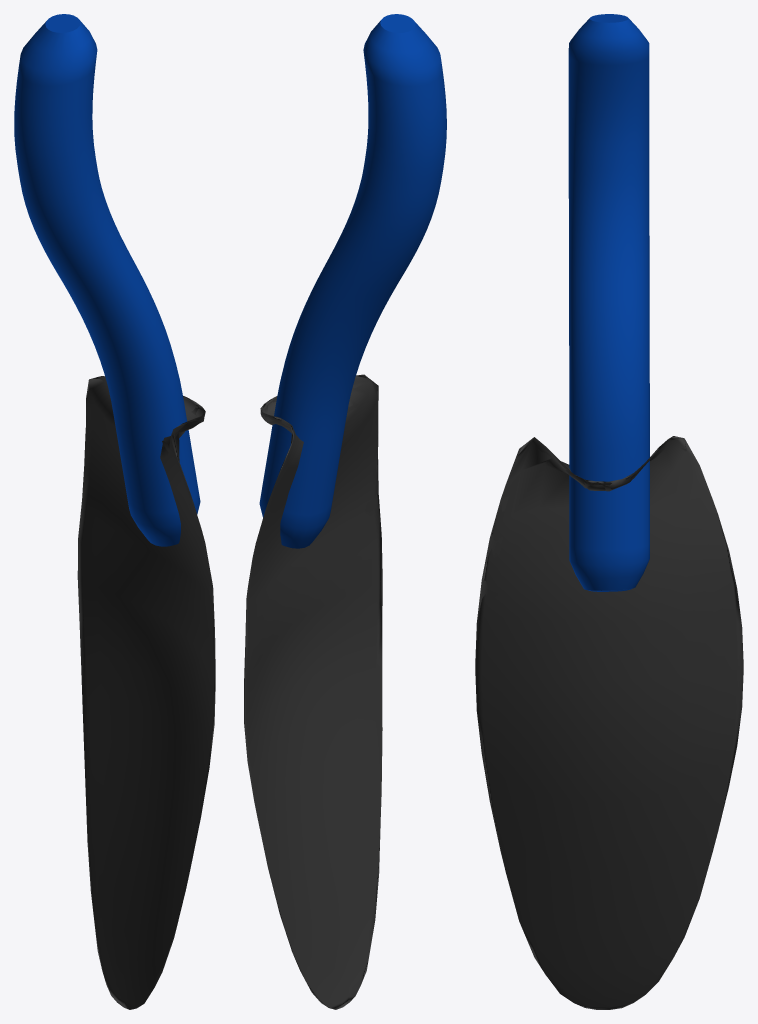
The model's file is spade.fbx.
3 renders of one model, left to right at view 1: azimuth 30°, elevation 25°; view 2: azimuth 150°, elevation 25°; view 3: azimuth 270°, elevation 25°, orthographic. The views are drawn at different scales.
Parts seen in each view (by area): view 1: pSphere1, pCylinder1; view 2: pSphere1, pCylinder1; view 3: pSphere1, pCylinder1.
Part boxes in pixels (x1,y1,x2,y2): pSphere1: [77, 376, 215, 1009]; pCylinder1: [14, 14, 200, 546]; pSphere1: [244, 374, 382, 1009]; pCylinder1: [259, 14, 446, 548]; pSphere1: [475, 436, 743, 1009]; pCylinder1: [568, 14, 649, 591].
Bounding box in the file's own units: 1.48 × 7.95 × 2.
